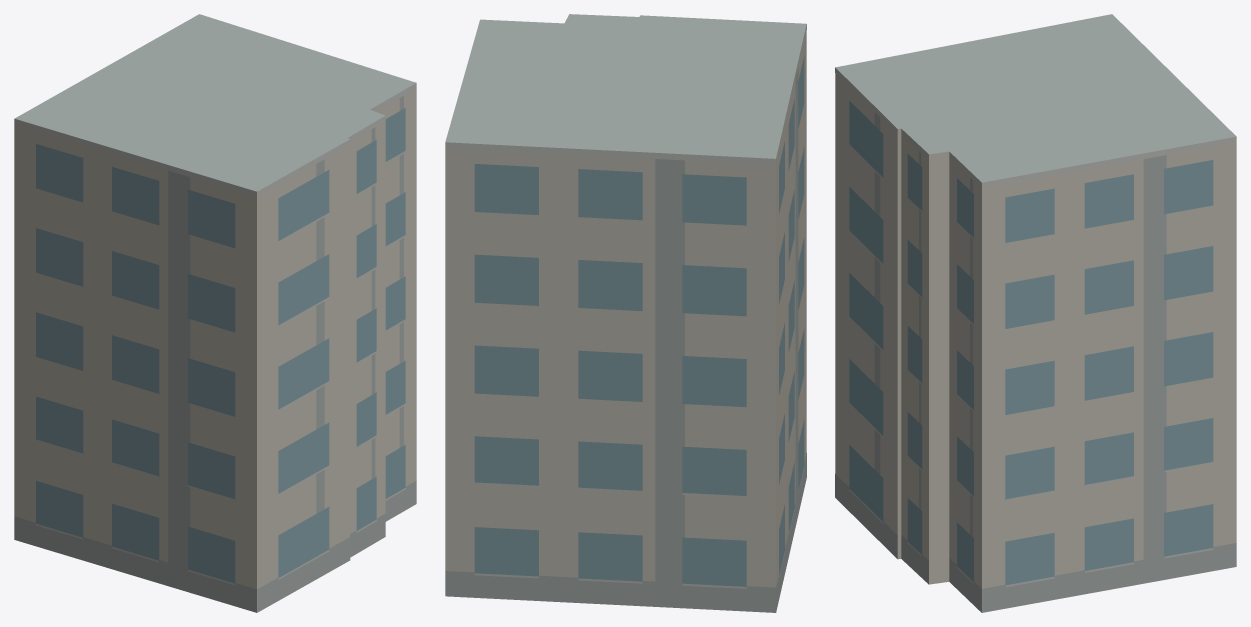
Rendered from survey-upis-32964975.glb.
3 views of the same model, side by side, from view 1: azimuth 30°, elevation 25°; view 2: azimuth 150°, elevation 25°; view 3: azimuth 270°, elevation 25° (orthographic). The views are drawn at different scales.
Parts seen in each view (by area): view 1: survey-upis-32964975.tmp; view 2: survey-upis-32964975.tmp; view 3: survey-upis-32964975.tmp.
Boxes of the visible parts, left/top/right/bottom form: survey-upis-32964975.tmp: left=14, top=14, right=416, bottom=612; survey-upis-32964975.tmp: left=445, top=14, right=806, bottom=612; survey-upis-32964975.tmp: left=835, top=14, right=1236, bottom=612.
Bounding box in the file's own units: 15.3 × 18.19 × 15.39.
